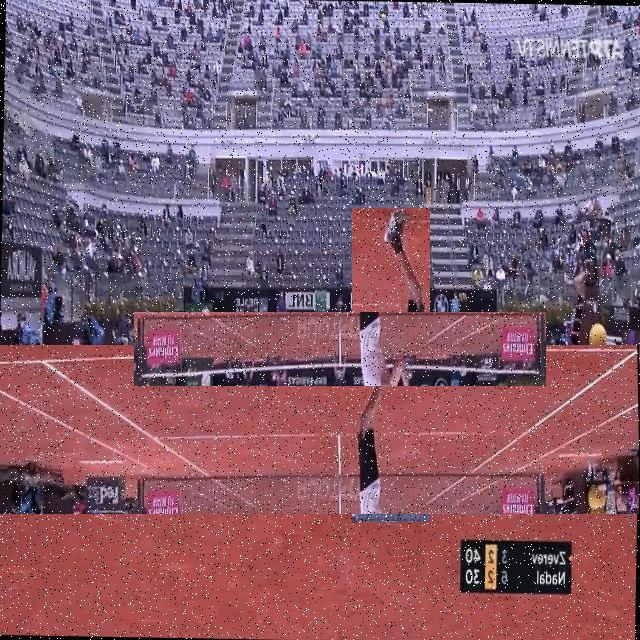court: (0, 345, 639, 514)
net: (134, 312, 546, 386)
player: (352, 208, 430, 522)
